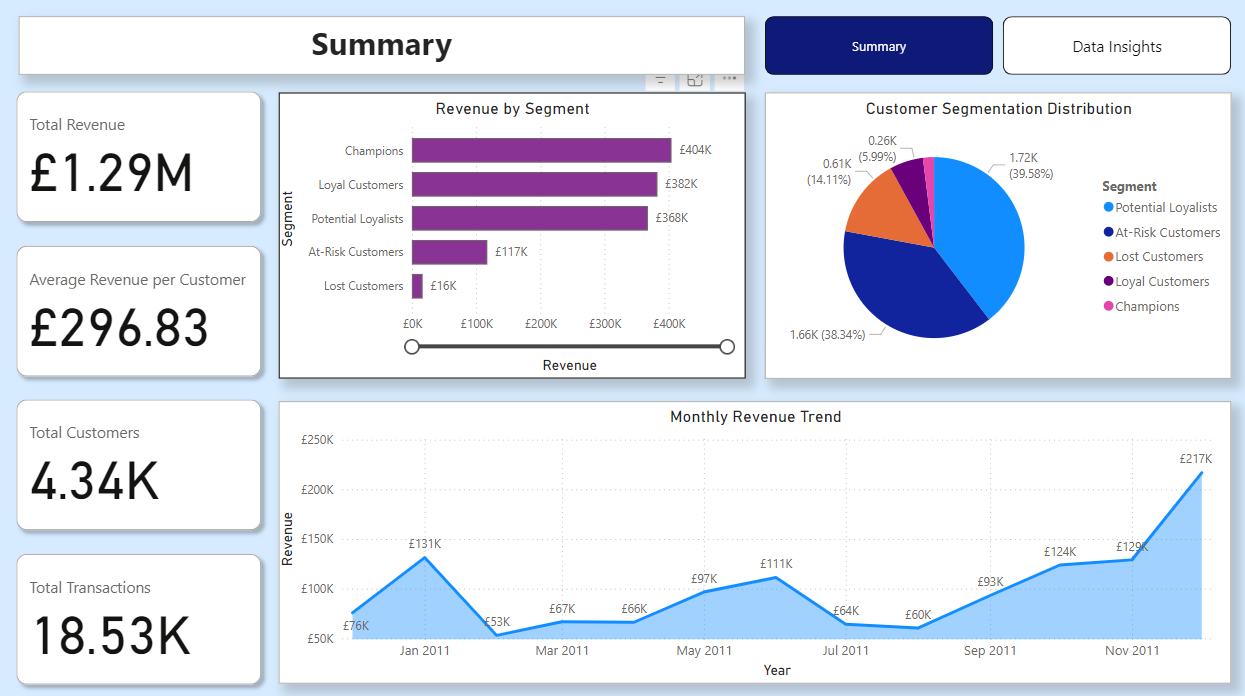

The dashboard page shown, as its layout file describes it:
{"tool":"powerbi","page":{"name":"Summary","canvas":[1280,720],"ordinal":0},"visuals":[{"type":"lineChart","title":" Monthly Revenue Trend","fields":{"Y":["Sum(data.TotalPrice)"],"Category":["data.InvoiceDate.Variation.Date Hierarchy.Year","data.InvoiceDate.Variation.Date Hierarchy.Quarter","data.InvoiceDate.Variation.Date Hierarchy.Month","data.InvoiceDate.Variation.Date Hierarchy.Day"]},"box":[285.9,411.5,976.9,289.7],"z":0},{"type":"pieChart","title":"Customer Segmentation Distribution","fields":{"Category":["RFM_Summary.Segment"],"Y":["Count(RFM_Summary.CustomerID)"]},"box":[784.6,94.9,478.2,293.6],"z":1000},{"type":"clusteredBarChart","title":"Revenue by Segment","fields":{"Category":["RFM_Summary.Segment"],"Y":["Sum(data.TotalPrice)"]},"box":[285.9,94.9,478.2,293.6],"z":2000},{"type":"cardVisual","fields":{"Data":["Sum(data.TotalPrice)","data.AverageMonetary","Count(data.CustomerID)","CountNonNull(data.InvoiceNo)"]},"box":[0,76.9,285.9,643.6],"z":3000},{"type":"textbox","title":"Summa","box":[19.2,16.7,744.9,60.3],"z":4000},{"type":"pageNavigator","box":[784.6,16.7,478.2,60.3],"z":5000}]}

Visuals, with their boxes in screenshot pixels (x1, y1, x2, y2), scaled from the page's 1280x720 canvas onto the 1245x696 screenshot:
" Monthly Revenue Trend" lineChart: <box>278,398,1228,678</box>
"Customer Segmentation Distribution" pieChart: <box>763,92,1228,376</box>
"Revenue by Segment" clusteredBarChart: <box>278,92,743,376</box>
cardVisual - Sum(data.TotalPrice) x data.AverageMonetary: <box>0,74,278,695</box>
"Summa" textbox: <box>19,16,743,74</box>
pageNavigator: <box>763,16,1228,74</box>
